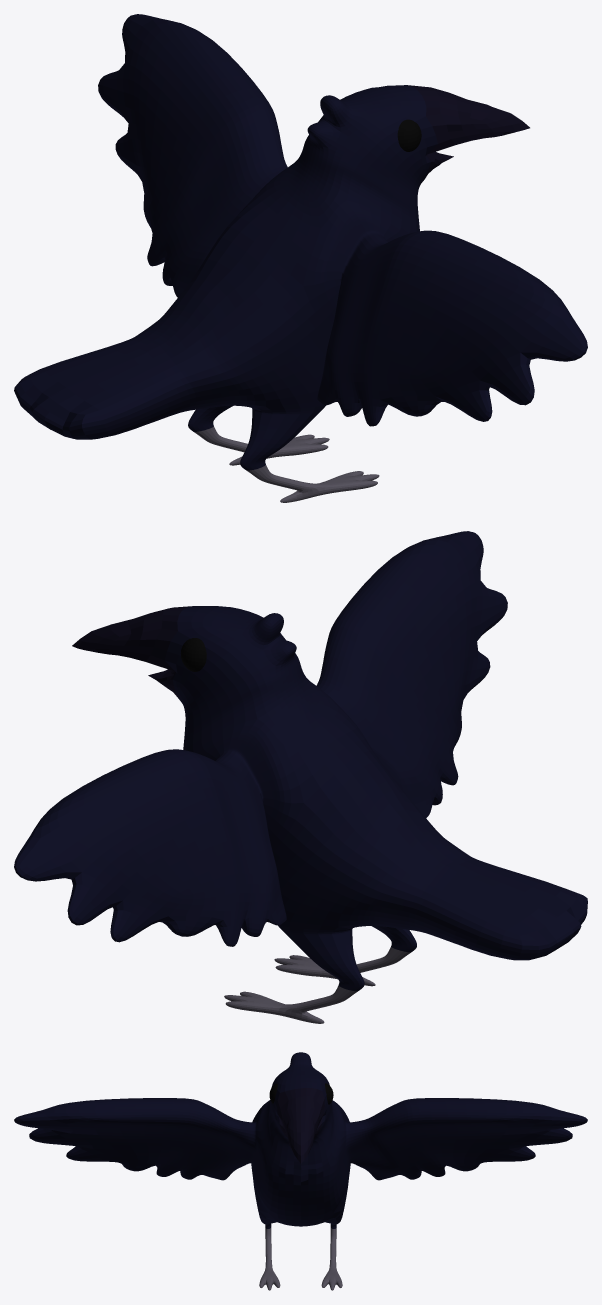
File: cuervoPintado.fbx
The picture shows the model from 3 angles, top to bottom: view 1: azimuth 30°, elevation 25°; view 2: azimuth 150°, elevation 25°; view 3: azimuth 270°, elevation 25°; orthographic projection. The views are drawn at different scales.
Visible parts, largest first — view 1: Cube.001; view 2: Cube.001; view 3: Cube.001.
Boxes of the visible parts, x1,y1,x2,y2 form: Cube.001: [14, 14, 587, 502]; Cube.001: [14, 531, 587, 1023]; Cube.001: [14, 1052, 587, 1290].
Bounding box in the file's own units: 168 × 119 × 267.
